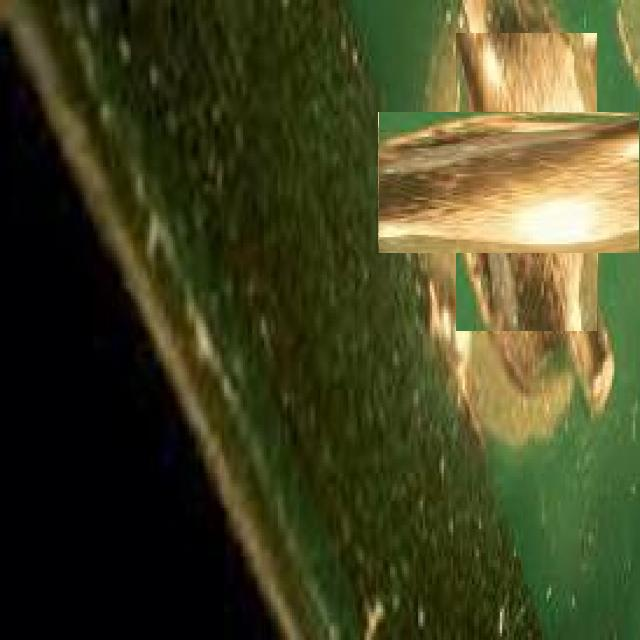redundant: (417, 73, 636, 292)
